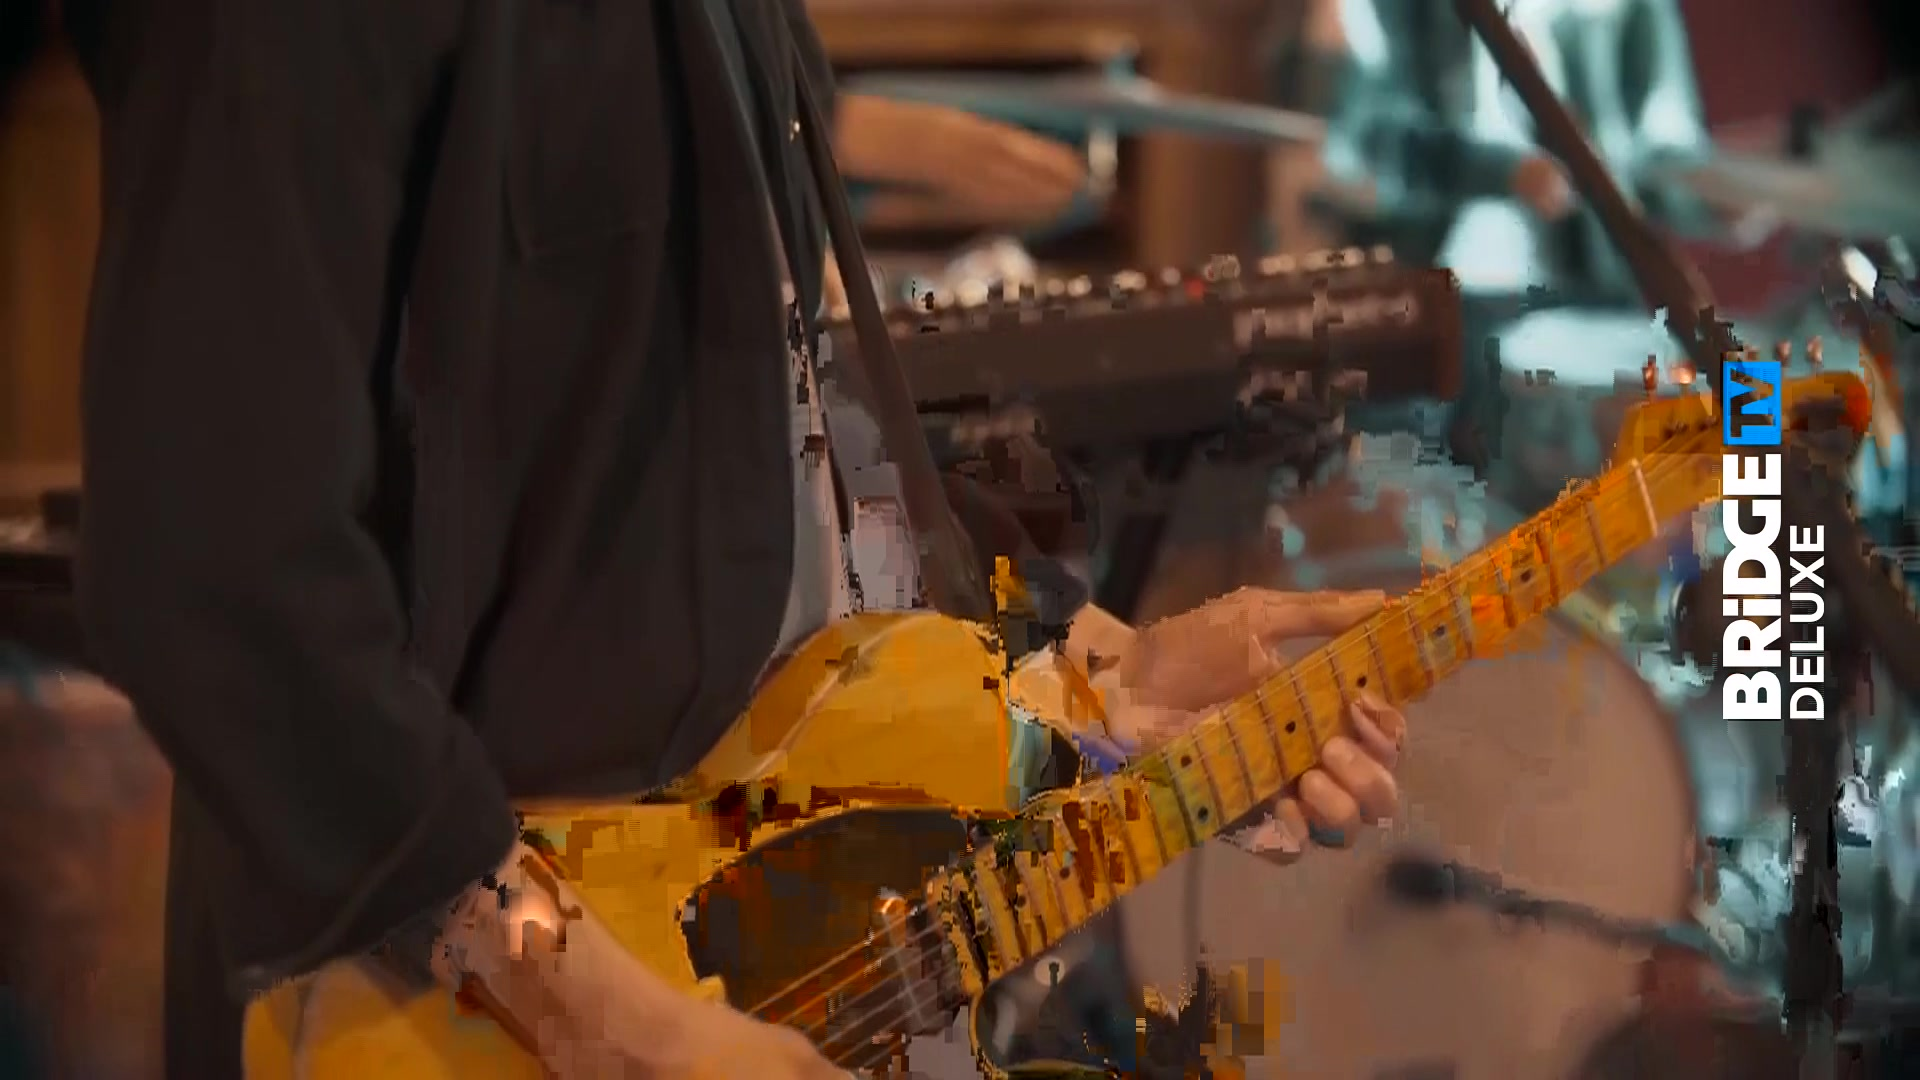Bridge_TV_Deluxe: (1716, 355, 1829, 727)
